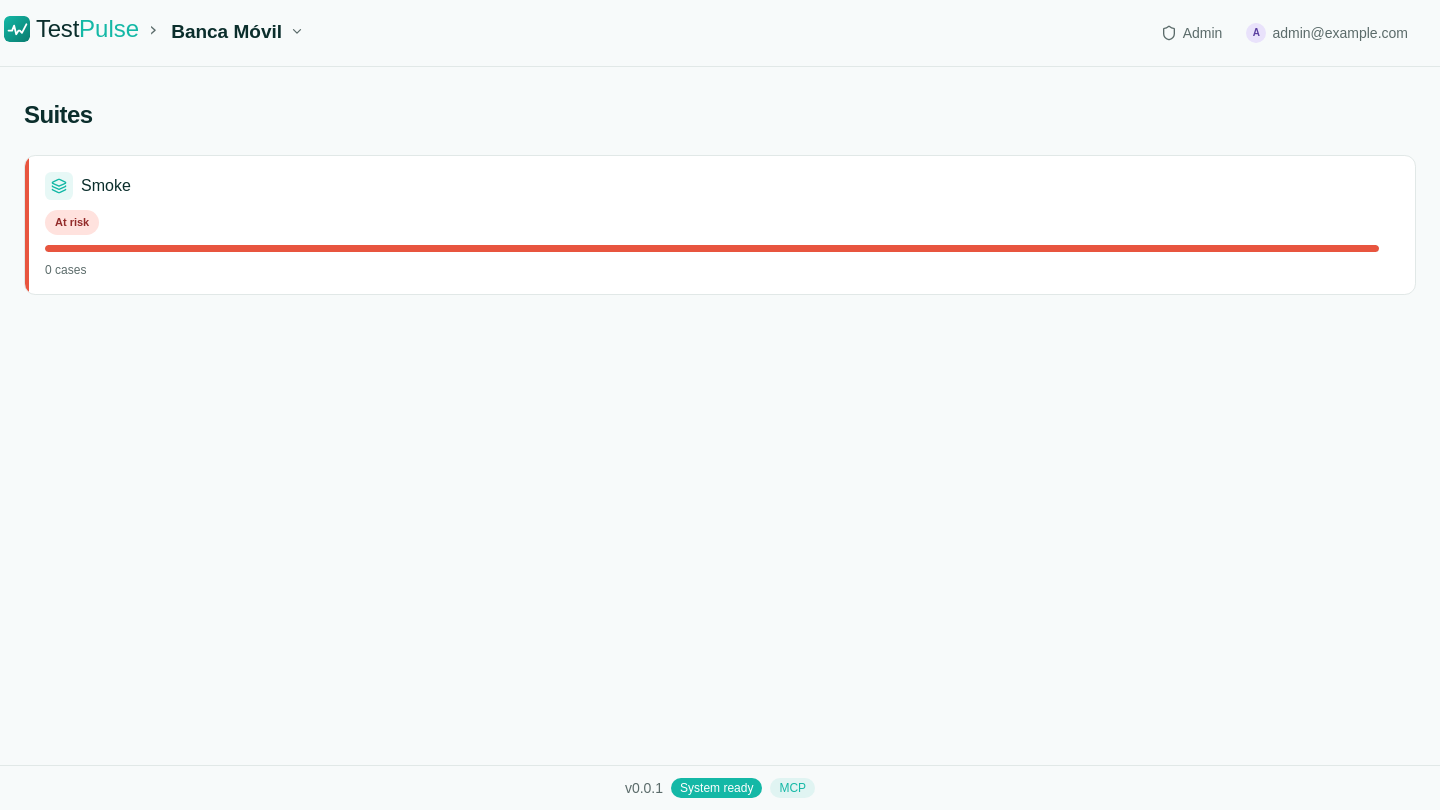
it: App shell › navigates to the selected project when chosen from the switcher palette
Check: the link "Banca Móvil" is shown, box [167,18,286,45]
Click the button named "switch project" at [297, 31], box [286,20,308,42]
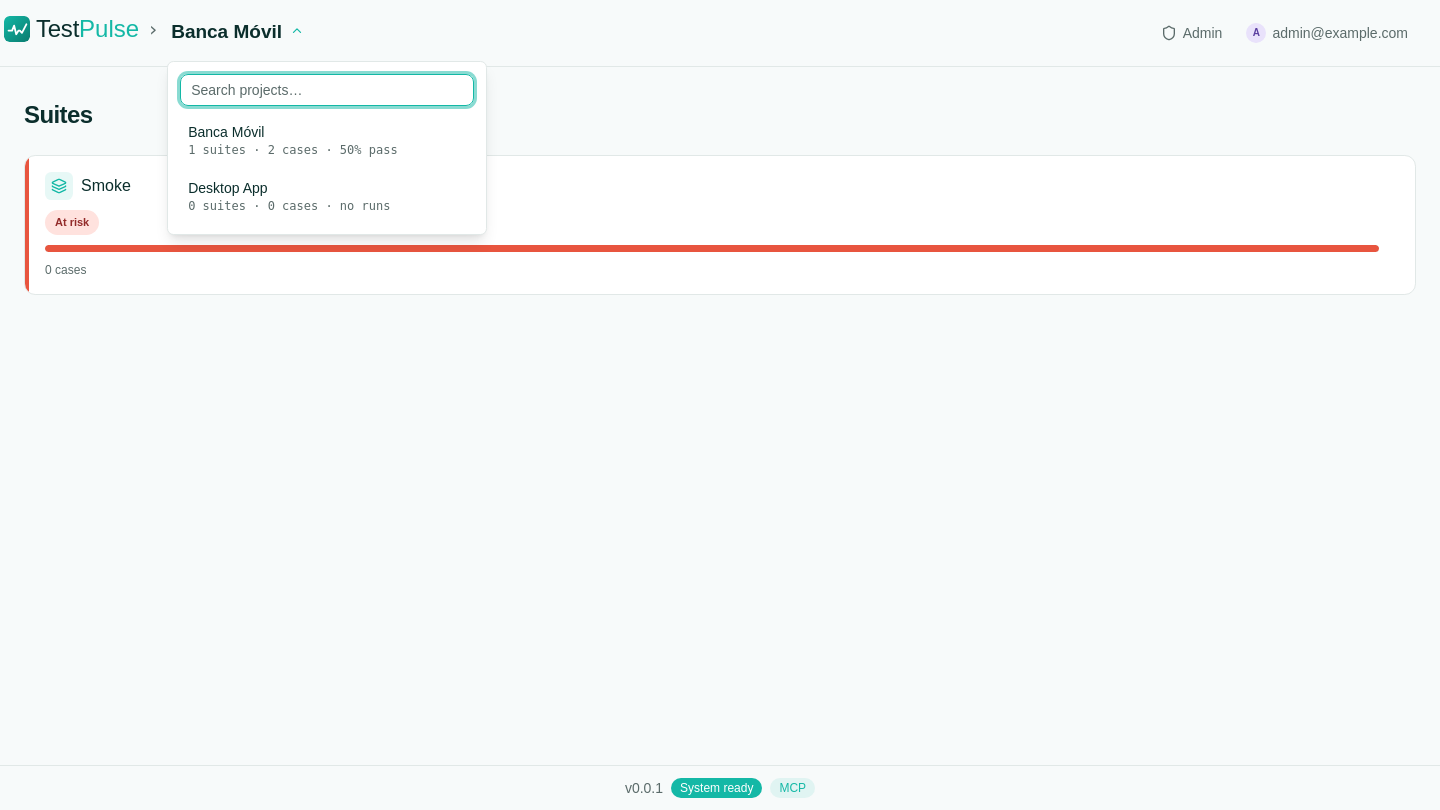
Click the text "Desktop App" at [228, 188], box [188,180,268,196]
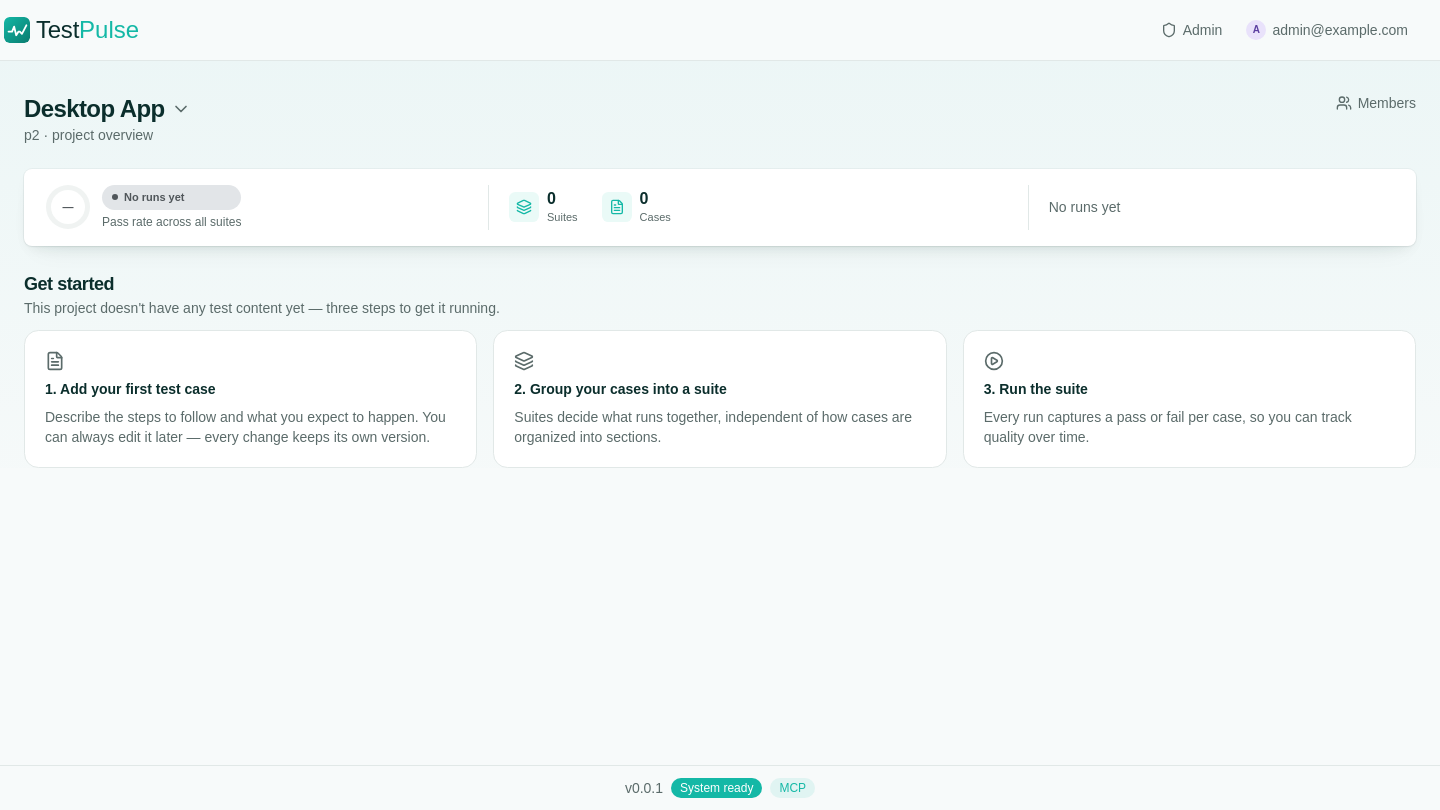
Check: the heading "Desktop App" is shown, box [24,93,164,125]
